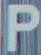Parking: (8, 0, 40, 52)
